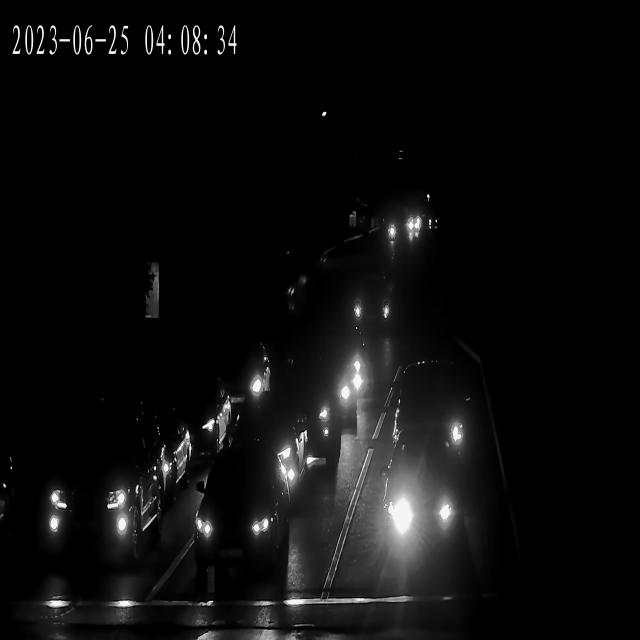Car: (12, 421, 158, 549), (188, 456, 288, 579), (137, 378, 238, 470), (389, 363, 467, 465), (378, 460, 464, 550), (293, 332, 385, 410), (235, 411, 315, 495), (283, 354, 363, 436), (288, 340, 368, 419), (197, 343, 275, 412), (343, 281, 393, 331), (406, 218, 423, 234), (382, 226, 397, 243)
